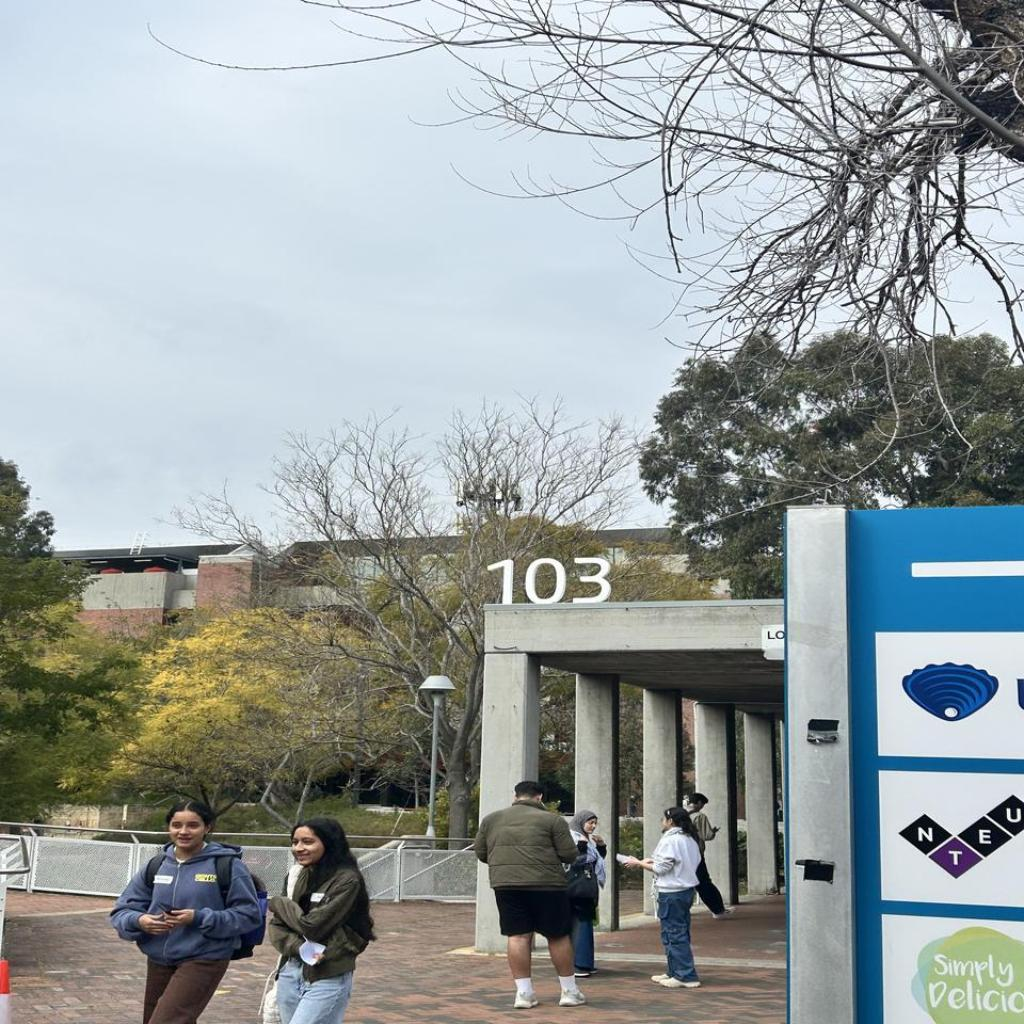BuildingCodes: (486, 556, 614, 606)
